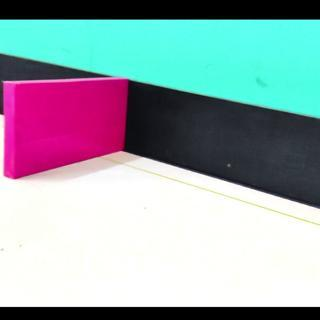xparking: (6, 82, 120, 177)
